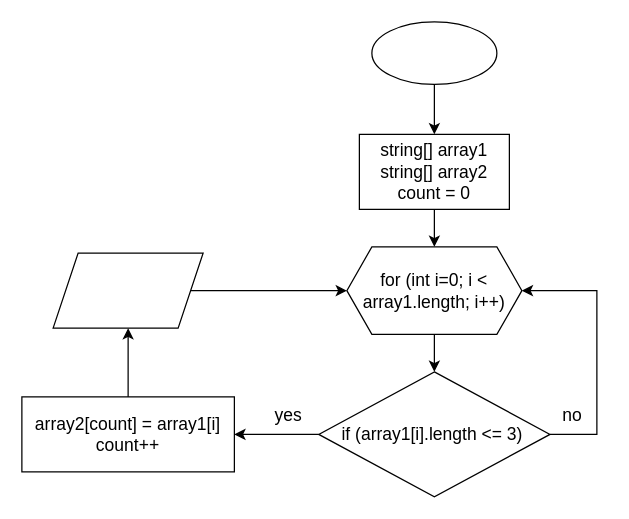
Some shapes in this 629 by 519 pixel diagram are drawn without their labels. Each missing label, with the centre of its shape:
"output array2" goes at (x=127, y=290).
"start" goes at (x=434, y=52).
